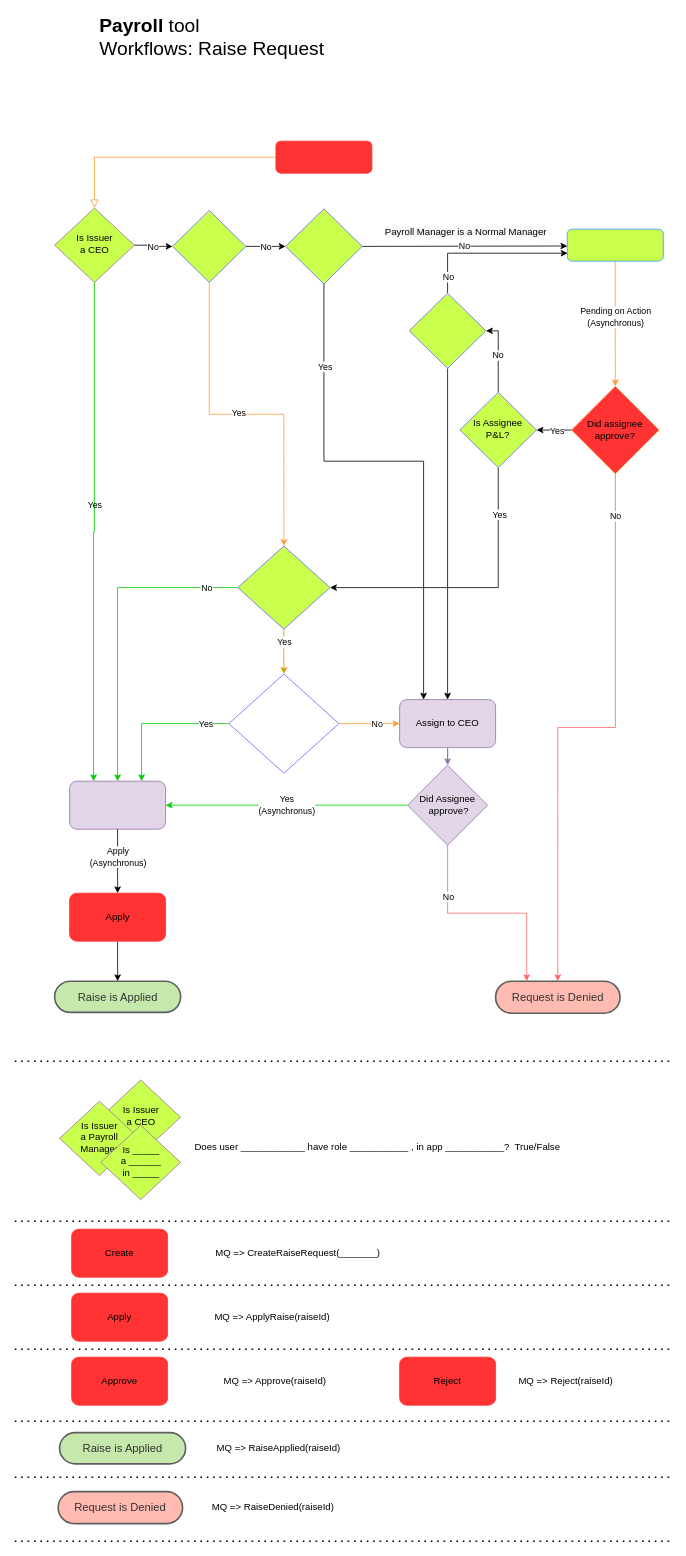
The diagram is 686 pixels wide and 1556 high, and some of its shapes have lost their labels. The box of each missing label's shape, as (x1, y1, x2, y2) in pixels:
Assign to Finance: (69, 780, 166, 829)
Assign to his Manager: (566, 228, 663, 261)
Assignee Reports to CEO?: (408, 292, 486, 368)
Gross > Salary Level: (237, 545, 330, 629)
Is Issuer a P&L?: (172, 210, 246, 282)
Is new level within the excluded salary levels ?: (228, 673, 339, 773)
Issuer report to CEO?: (285, 208, 362, 284)
Payroll Manager Creates a Request: (275, 140, 372, 173)
